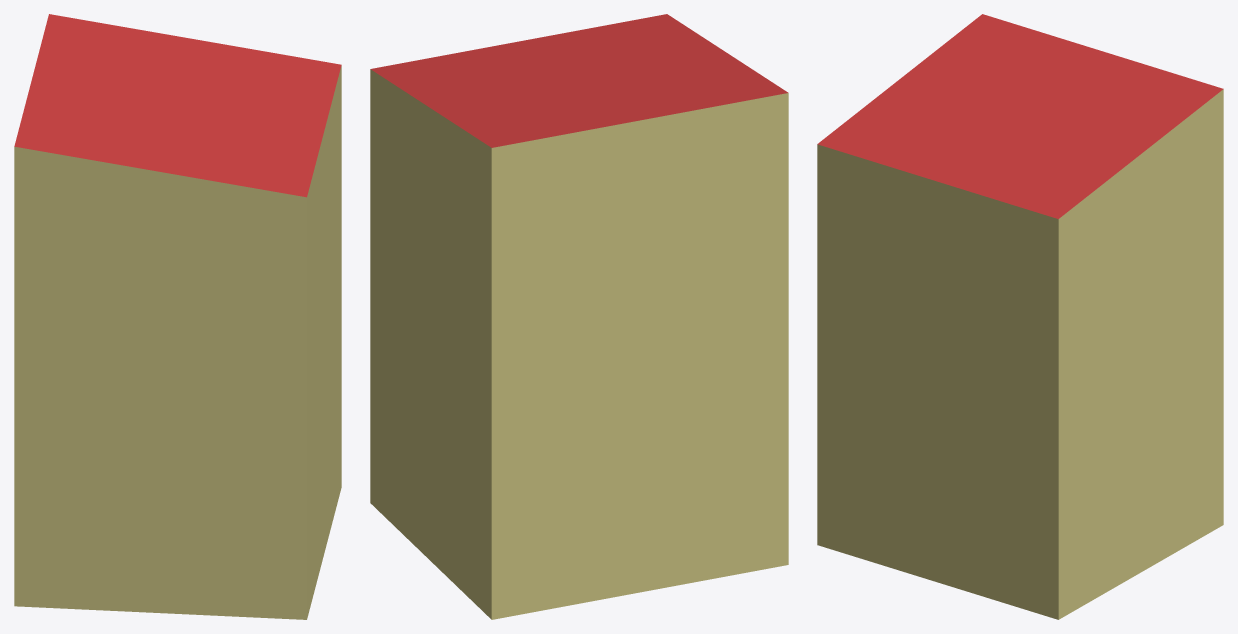
3 renders of one model, left to right at view 1: azimuth 30°, elevation 25°; view 2: azimuth 150°, elevation 25°; view 3: azimuth 270°, elevation 25°, orthographic. The views are drawn at different scales.
Visible parts, largest first — view 1: group_4, group_3; view 2: group_4, group_3; view 3: group_4, group_3.
Part boxes in pixels (x1=…): group_4: x1=14, y1=65, x2=341, y2=619; group_3: x1=14, y1=14, x2=341, y2=197; group_4: x1=370, y1=69, x2=788, y2=619; group_3: x1=370, y1=14, x2=788, y2=147; group_4: x1=817, y1=89, x2=1223, y2=619; group_3: x1=817, y1=14, x2=1223, y2=218.
Size of the model in its own units: 5.9 by 5.96 by 7.05.
